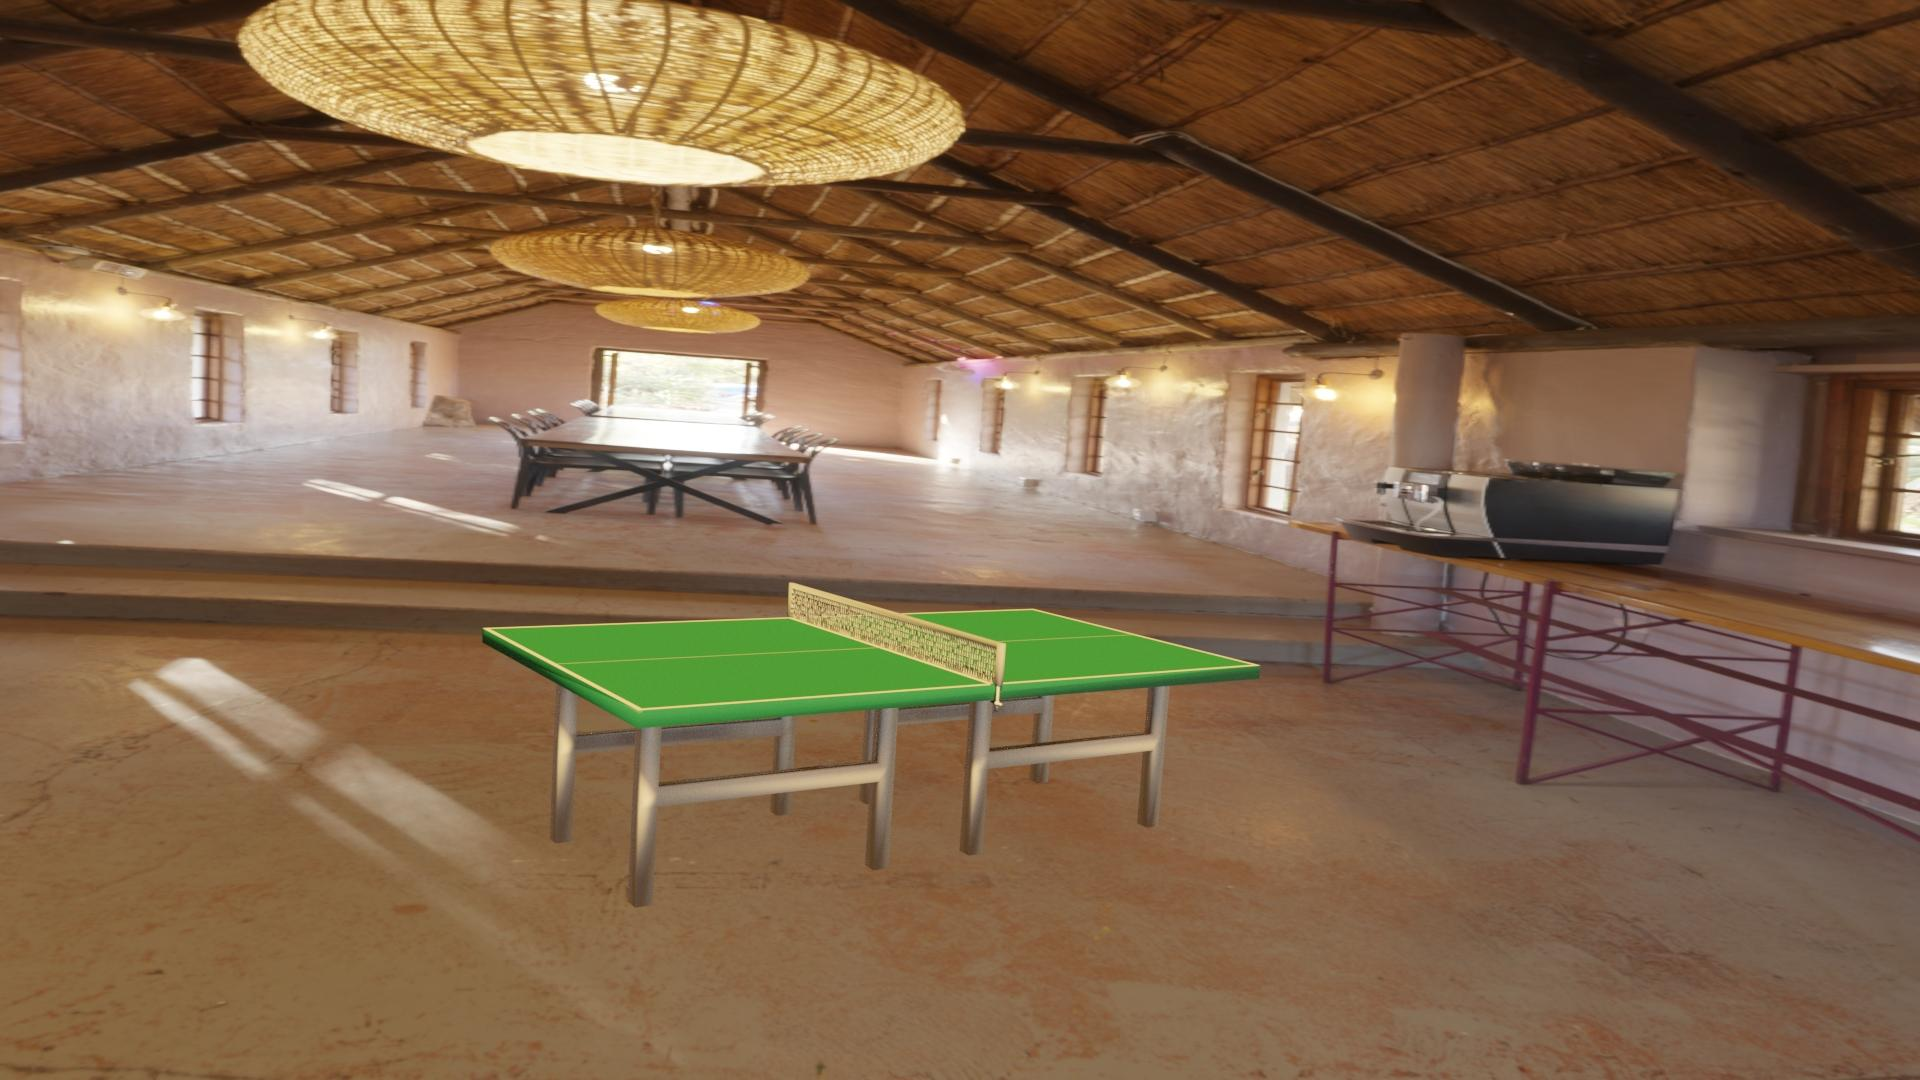table: (489, 609, 1253, 708)
